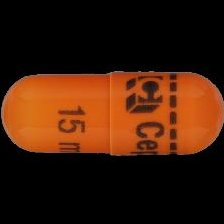35356-262: (0, 0, 224, 224)
